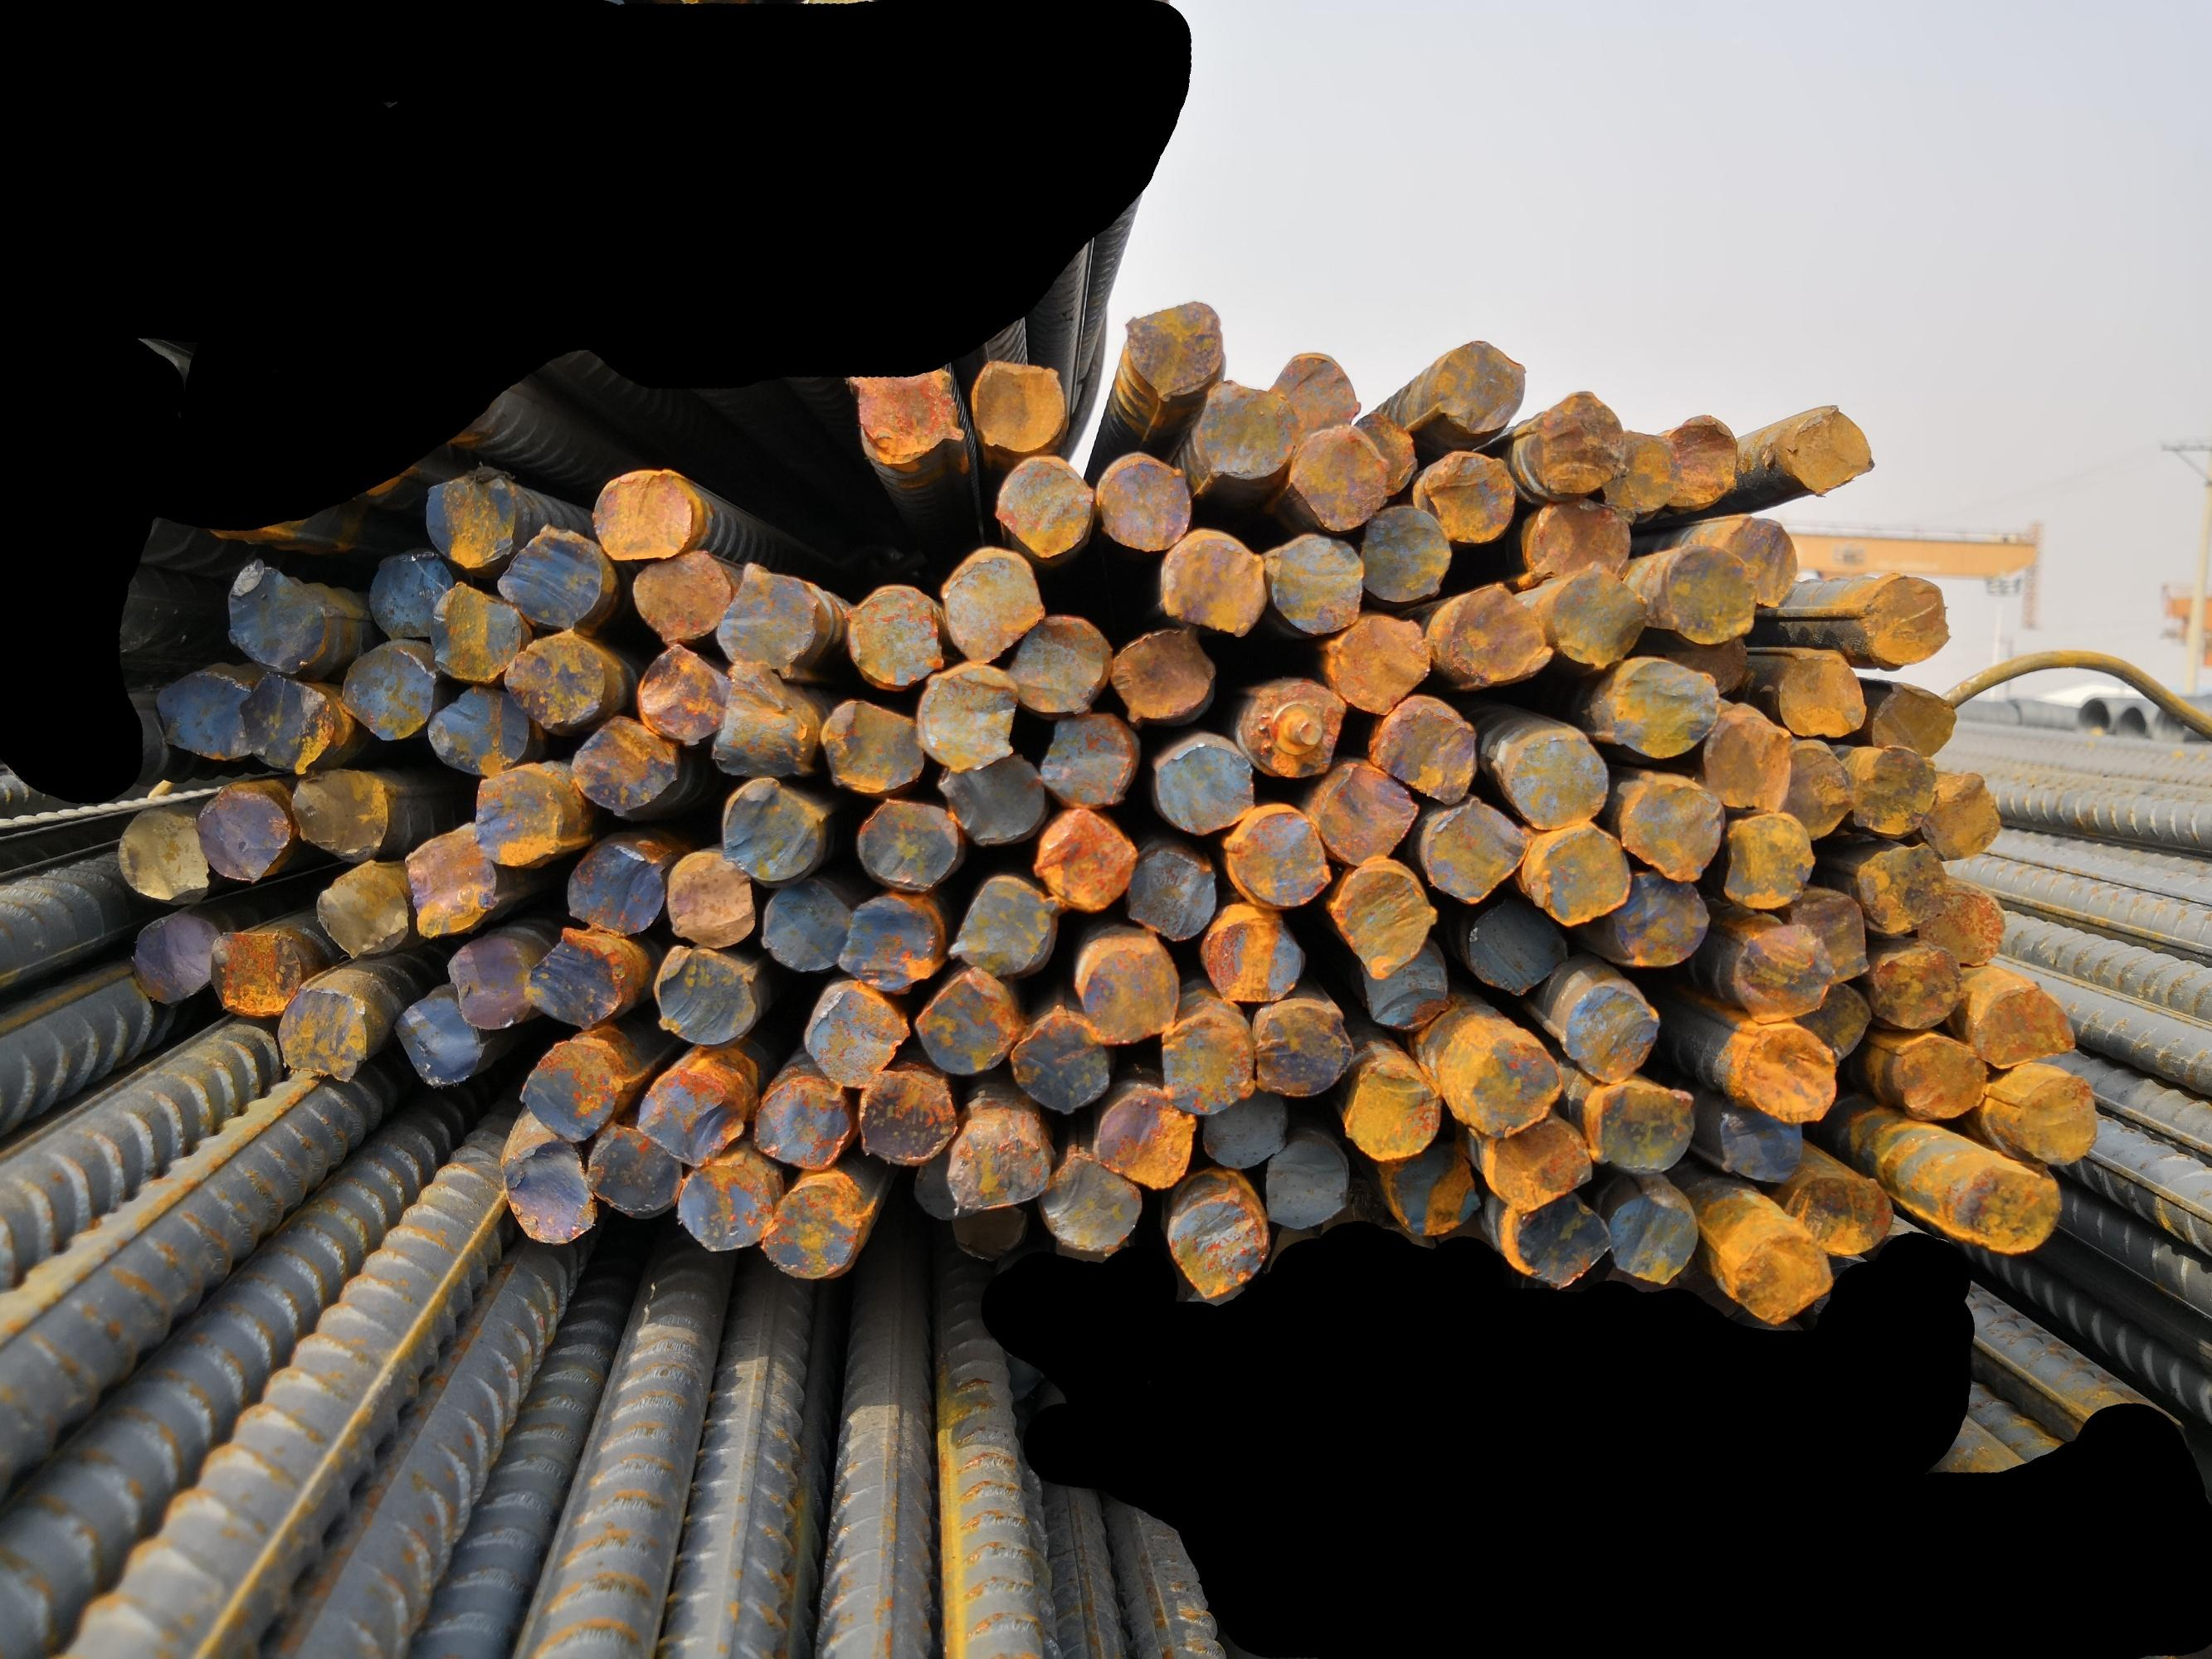bar: (1708, 1209, 1837, 1326), (1328, 852, 1443, 983), (1443, 1026, 1565, 1141), (1935, 1155, 2064, 1262), (626, 1053, 750, 1162), (933, 545, 1044, 664), (1333, 1047, 1447, 1162), (715, 558, 831, 669), (1532, 561, 1651, 671), (1492, 720, 1611, 829), (708, 673, 828, 781), (845, 366, 966, 474), (985, 450, 1098, 563), (1084, 1075, 1196, 1190), (492, 525, 610, 633), (750, 1176, 866, 1284), (624, 538, 737, 648), (1647, 535, 1762, 643), (1004, 598, 1109, 716), (1154, 526, 1265, 636), (1191, 373, 1302, 483), (1436, 580, 1550, 688), (1163, 1190, 1269, 1305), (812, 694, 929, 798), (1415, 796, 1532, 901), (802, 979, 912, 1089), (1727, 1019, 1837, 1129), (220, 558, 328, 669), (495, 626, 608, 732), (1260, 525, 1367, 638), (1367, 695, 1480, 802), (1306, 760, 1419, 866), (565, 713, 680, 817), (1283, 420, 1388, 535), (497, 1131, 600, 1248), (1370, 1140, 1487, 1243), (1598, 863, 1712, 967), (1105, 624, 1220, 727), (915, 657, 1018, 772), (329, 633, 438, 741), (1025, 802, 1133, 910), (1222, 798, 1330, 906), (947, 1101, 1053, 1211), (840, 575, 945, 687), (915, 967, 1020, 1079), (1325, 610, 1436, 714), (1520, 821, 1632, 925), (1623, 769, 1727, 880), (1403, 446, 1523, 542), (718, 775, 826, 882), (1121, 295, 1229, 401), (1555, 976, 1663, 1082), (1081, 938, 1182, 1051), (1156, 1004, 1257, 1117), (1513, 495, 1632, 591), (589, 464, 701, 565), (467, 756, 568, 868), (389, 981, 490, 1093), (418, 678, 533, 775), (1496, 1192, 1614, 1286), (519, 924, 626, 1028), (1523, 390, 1628, 497), (1999, 1065, 2104, 1171), (750, 1072, 858, 1175), (1236, 680, 1346, 781), (1008, 1002, 1109, 1112), (1041, 1145, 1142, 1255), (1093, 450, 1192, 561), (1588, 1079, 1700, 1178), (312, 847, 410, 960), (397, 821, 495, 934), (1455, 899, 1571, 995), (1480, 1115, 1595, 1211), (626, 640, 730, 744), (950, 870, 1055, 974), (518, 1037, 621, 1143), (1424, 333, 1525, 441), (648, 946, 758, 1046), (835, 892, 945, 992), (1846, 568, 1956, 667), (1607, 657, 1719, 755), (931, 753, 1046, 847), (418, 575, 521, 680), (1600, 1180, 1705, 1283), (190, 777, 291, 884), (1353, 500, 1454, 606), (148, 662, 256, 762), (558, 835, 669, 931), (279, 765, 394, 857), (1727, 920, 1832, 1021), (1150, 737, 1257, 836), (1971, 974, 2078, 1073), (668, 1154, 776, 1251), (274, 972, 370, 1082), (1700, 704, 1795, 814), (1853, 938, 1963, 1033), (1347, 936, 1457, 1030), (1788, 1166, 1898, 1260), (200, 924, 305, 1021), (967, 356, 1072, 453), (573, 1121, 683, 1213), (235, 673, 335, 774), (1250, 995, 1351, 1094), (1848, 835, 1947, 936), (1776, 403, 1879, 500), (356, 544, 455, 643), (1039, 711, 1138, 810), (422, 467, 519, 568), (854, 1068, 955, 1166), (1771, 640, 1869, 741), (1912, 870, 2010, 971), (441, 927, 532, 1035), (110, 805, 207, 904), (662, 847, 758, 948), (858, 796, 960, 890), (1203, 911, 1306, 1006), (1842, 739, 1940, 836), (757, 875, 852, 974), (1260, 1127, 1351, 1232), (1720, 807, 1816, 904), (1890, 1032, 1989, 1126), (1914, 762, 2003, 866), (1124, 843, 1217, 943), (1785, 882, 1874, 985), (129, 908, 225, 1002), (1712, 514, 1806, 610), (1656, 410, 1740, 512), (1708, 1101, 1811, 1183), (1267, 347, 1360, 437), (1769, 737, 1851, 838), (1598, 422, 1680, 514), (1862, 680, 1959, 753), (1199, 1086, 1286, 1166), (1795, 972, 1874, 1061), (1347, 406, 1417, 500), (1659, 624, 1748, 690), (947, 1194, 1028, 1262), (908, 1157, 964, 1218)
